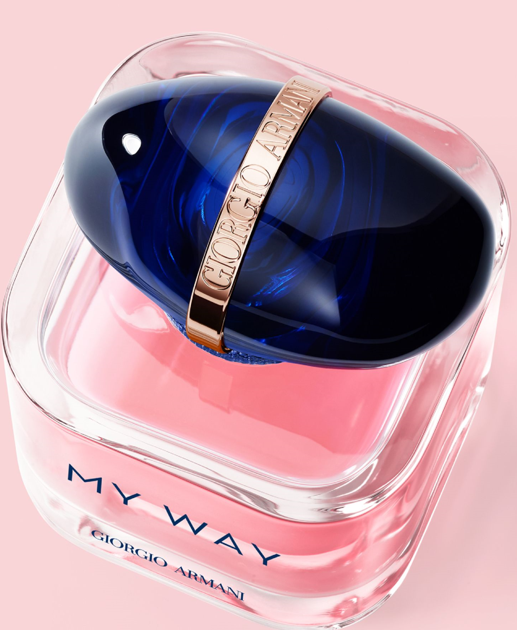armani_my_way_floral: (7, 22, 510, 618)
